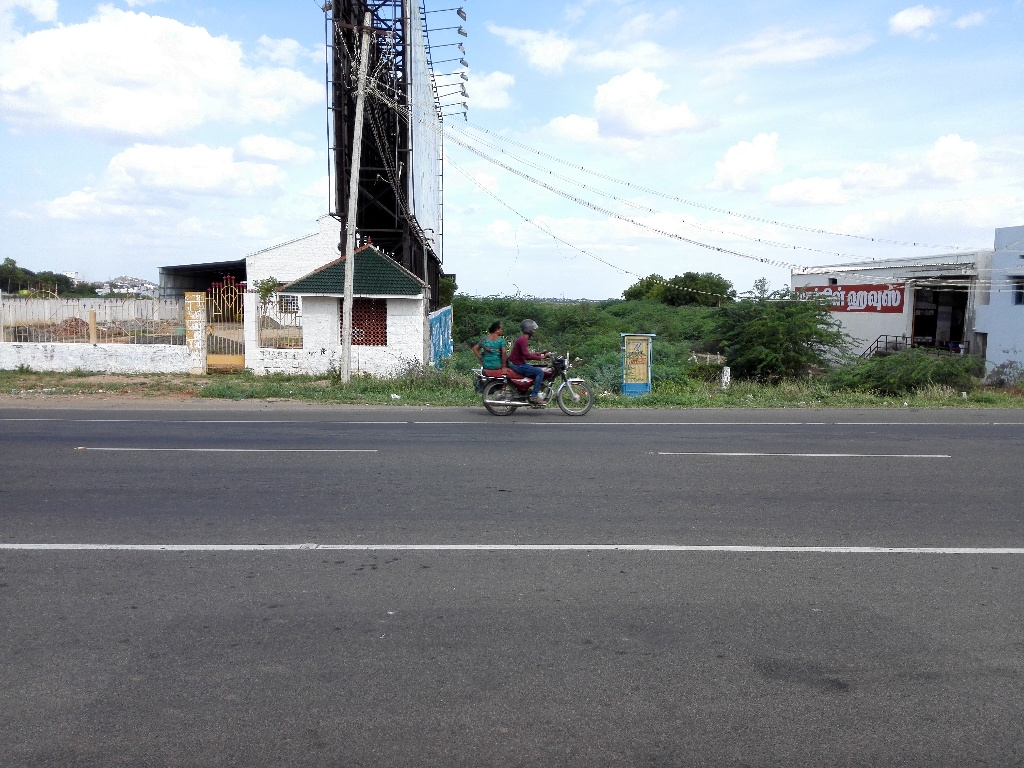biker: (455, 295, 615, 428)
helmet: (516, 310, 541, 341)
nohelmet: (482, 311, 507, 342)
